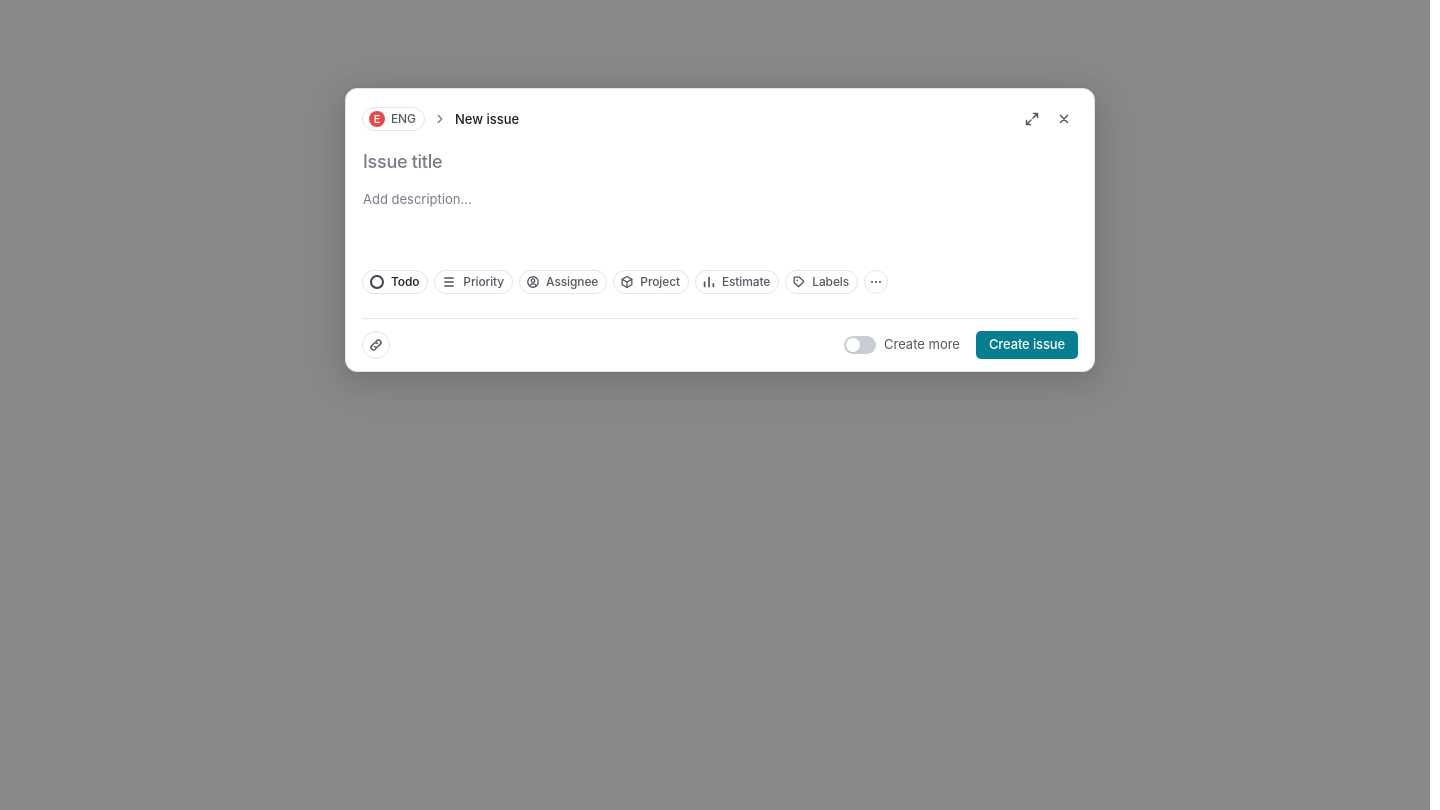
Scenario: CreateIssueModal › shows an estimate control only on a team that estimates
Expected: the button "No estimate" is not shown
# And it is a working picker, not a placeholder: the chosen points become the pill's name.
Click the button with aria-label "No estimate" at (737, 282), box left=695, top=270, right=779, bottom=294
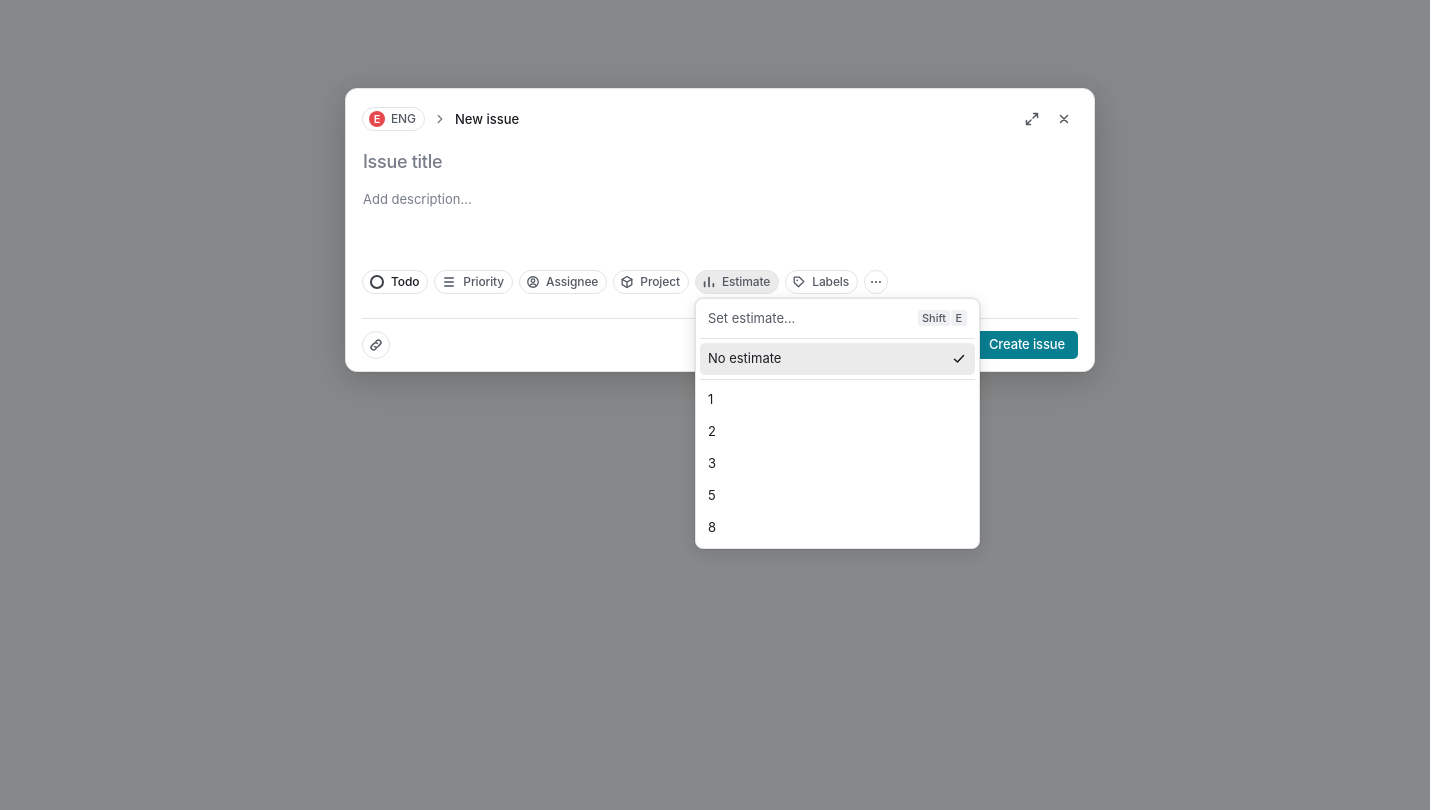
Click the menu item "3" at (712, 463), box left=708, top=455, right=716, bottom=471
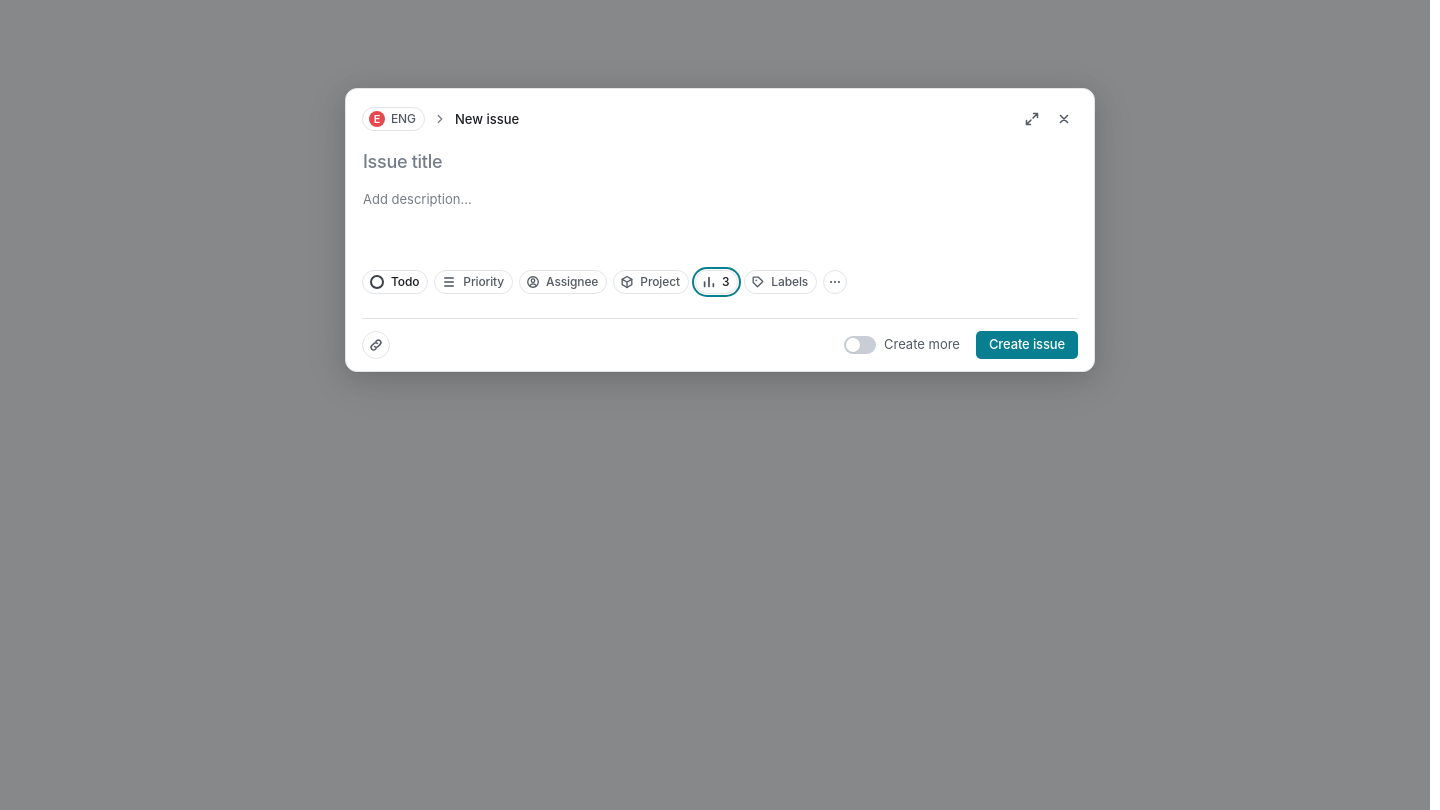
Now the button "3" is shown, box left=695, top=270, right=738, bottom=294
